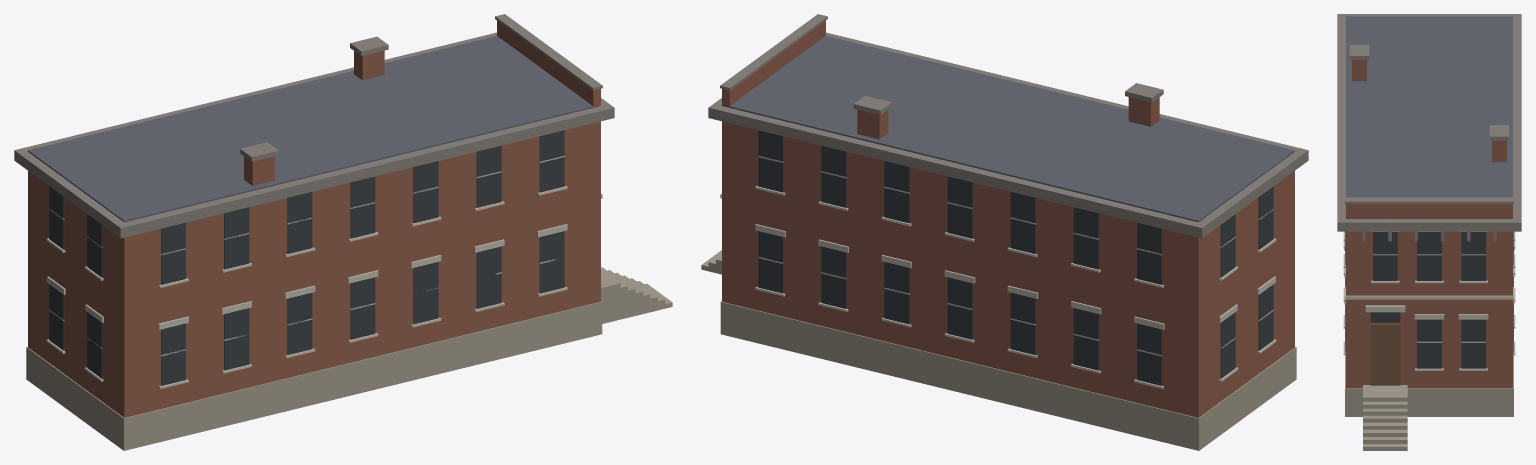
File: house_1608_prairie__draft_1904.glb
3 renders of one model, left to right at view 1: azimuth 30°, elevation 25°; view 2: azimuth 150°, elevation 25°; view 3: azimuth 270°, elevation 25°, orthographic. The views are drawn at different scales.
Visible parts, largest first — view 1: house_1608_prairie__draft_1904; view 2: house_1608_prairie__draft_1904; view 3: house_1608_prairie__draft_1904.
Boxes of the visible parts, <box> form: house_1608_prairie__draft_1904: <box>14,14,672,450</box>; house_1608_prairie__draft_1904: <box>701,14,1308,450</box>; house_1608_prairie__draft_1904: <box>1337,14,1521,450</box>.
Bounding box in the file's own units: 22.9 × 10.04 × 7.45.
